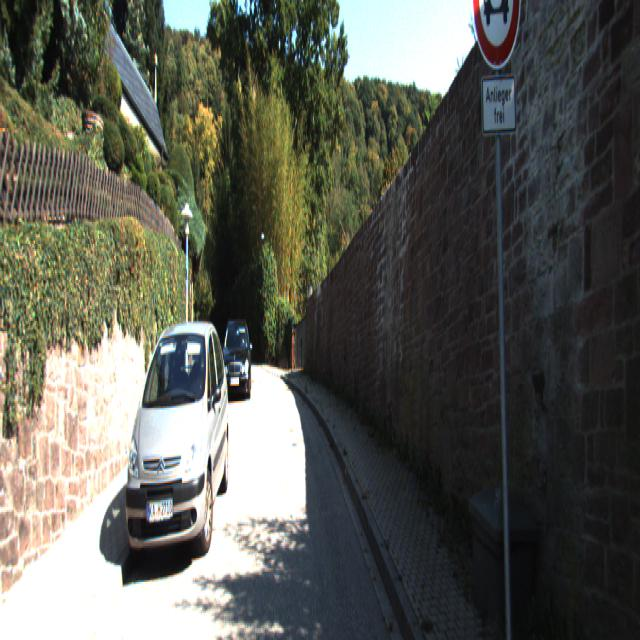Car: (120, 304, 230, 578), (222, 316, 252, 404)
